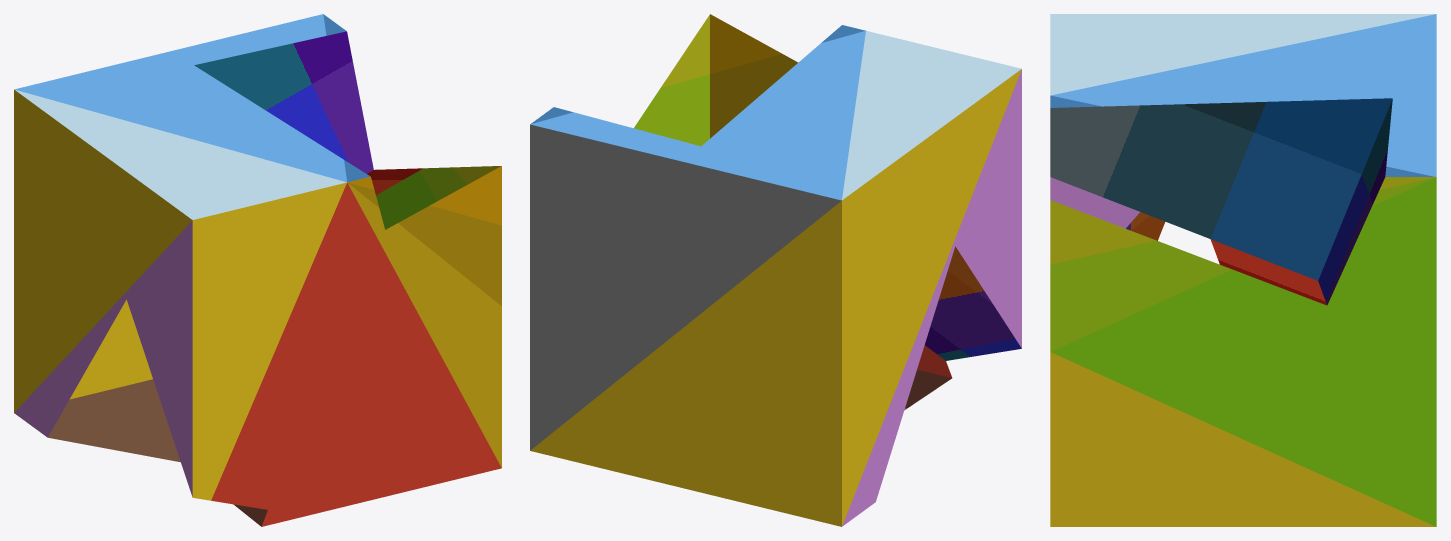
Rendered from CubeToOrient_cutted_singlePolys.dae.
The picture shows the model from 3 angles, left to right: view 1: azimuth 30°, elevation 25°; view 2: azimuth 150°, elevation 25°; view 3: azimuth 270°, elevation 25°; orthographic projection. The views are drawn at different scales.
Parts seen in each view (by area): view 1: Original; view 2: Original; view 3: Original.
Boxes of the visible parts, <box> form: Original: <box>14,14,501,526</box>; Original: <box>530,14,1021,526</box>; Original: <box>1050,14,1436,526</box>.
Size of the model in its own units: 1 by 1 by 1.
1 material, 1 textured.
